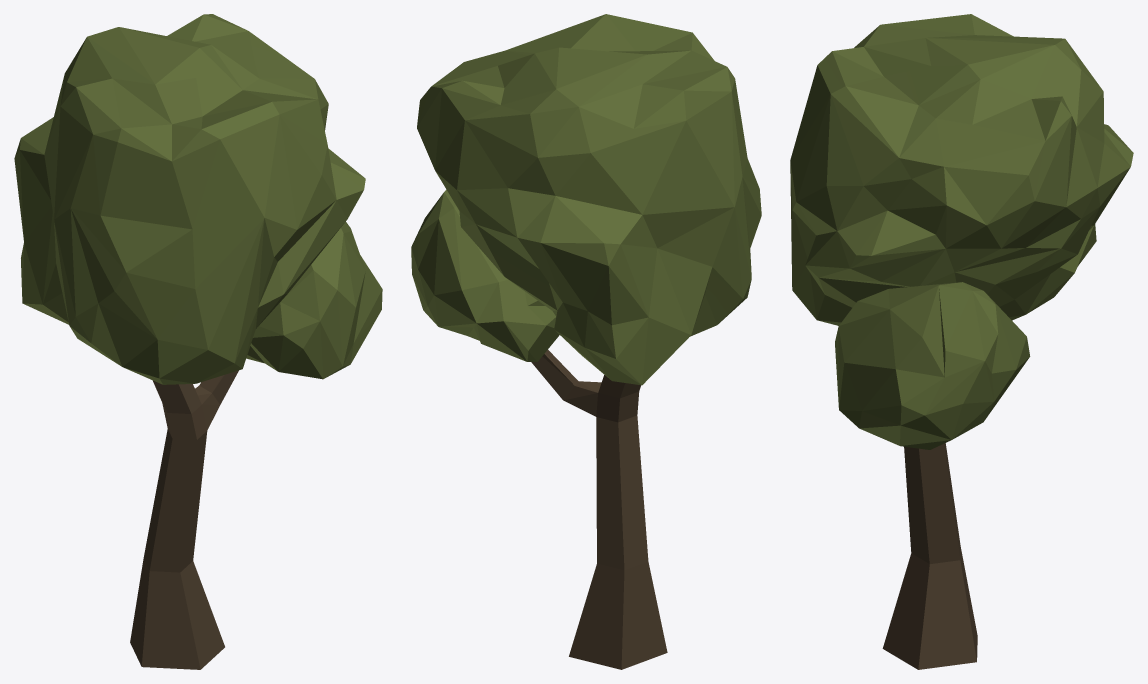
File: SM_Env_Tree_07.gltf
The picture shows the model from 3 angles, left to right: view 1: azimuth 30°, elevation 25°; view 2: azimuth 150°, elevation 25°; view 3: azimuth 270°, elevation 25°; orthographic projection. The views are drawn at different scales.
Parts seen in each view (by area): view 1: SM_Env_Tree_07; view 2: SM_Env_Tree_07; view 3: SM_Env_Tree_07.
Boxes of the visible parts, x1=… form: SM_Env_Tree_07: x1=14, y1=14, x2=382, y2=669; SM_Env_Tree_07: x1=411, y1=14, x2=761, y2=669; SM_Env_Tree_07: x1=790, y1=14, x2=1133, y2=669.
Bounding box in the file's own units: 2.99 × 5.29 × 2.72.
1 material, 1 textured.
